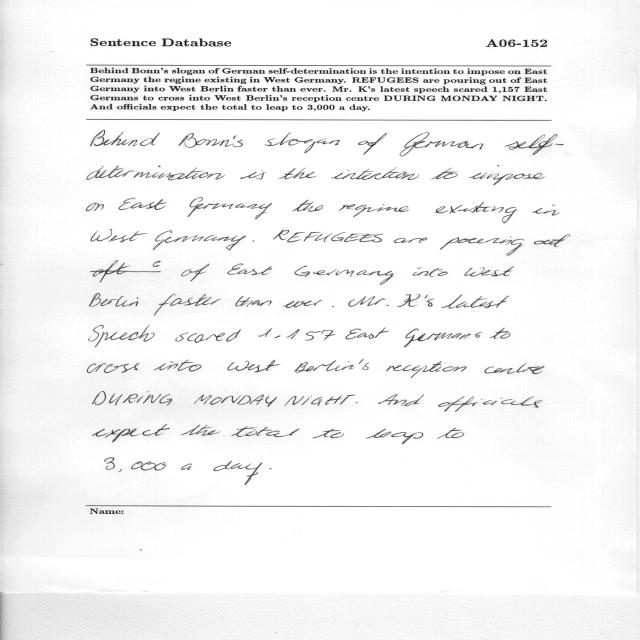word: (87, 166, 225, 181), (178, 133, 313, 148), (400, 133, 483, 157), (294, 266, 394, 285), (153, 231, 246, 251), (188, 198, 272, 220), (435, 202, 517, 223), (438, 396, 543, 412), (440, 236, 524, 255), (273, 229, 383, 243), (91, 261, 161, 283), (404, 329, 482, 348), (154, 294, 221, 316), (89, 325, 155, 347), (469, 166, 544, 185), (93, 424, 170, 442), (386, 361, 467, 378), (505, 134, 563, 155), (93, 391, 173, 406), (214, 461, 263, 485), (91, 130, 160, 146), (331, 168, 419, 180), (294, 359, 369, 373), (259, 328, 336, 341), (194, 395, 277, 407), (442, 295, 509, 309), (175, 329, 241, 343), (339, 204, 409, 217), (104, 458, 166, 472), (366, 429, 423, 444), (91, 229, 147, 243), (284, 395, 355, 406), (232, 426, 300, 437), (89, 293, 139, 307), (485, 363, 545, 374), (358, 133, 387, 155), (227, 360, 280, 372), (119, 198, 167, 210), (345, 327, 389, 340), (378, 394, 424, 406), (304, 139, 340, 154), (227, 263, 272, 275), (154, 360, 202, 371), (87, 363, 139, 373), (464, 267, 514, 277), (398, 294, 435, 307), (182, 264, 210, 281), (534, 235, 570, 248), (348, 296, 389, 307), (180, 425, 220, 436), (279, 168, 317, 179), (236, 296, 272, 307), (293, 200, 324, 212), (412, 268, 448, 277), (283, 300, 322, 308), (532, 205, 560, 216), (431, 168, 458, 179), (437, 428, 464, 439), (313, 429, 345, 438), (240, 171, 265, 180), (490, 328, 510, 339), (394, 238, 427, 243), (86, 203, 104, 211), (181, 464, 192, 471), (253, 240, 255, 242), (270, 468, 272, 470), (332, 306, 334, 307), (356, 402, 358, 403)
